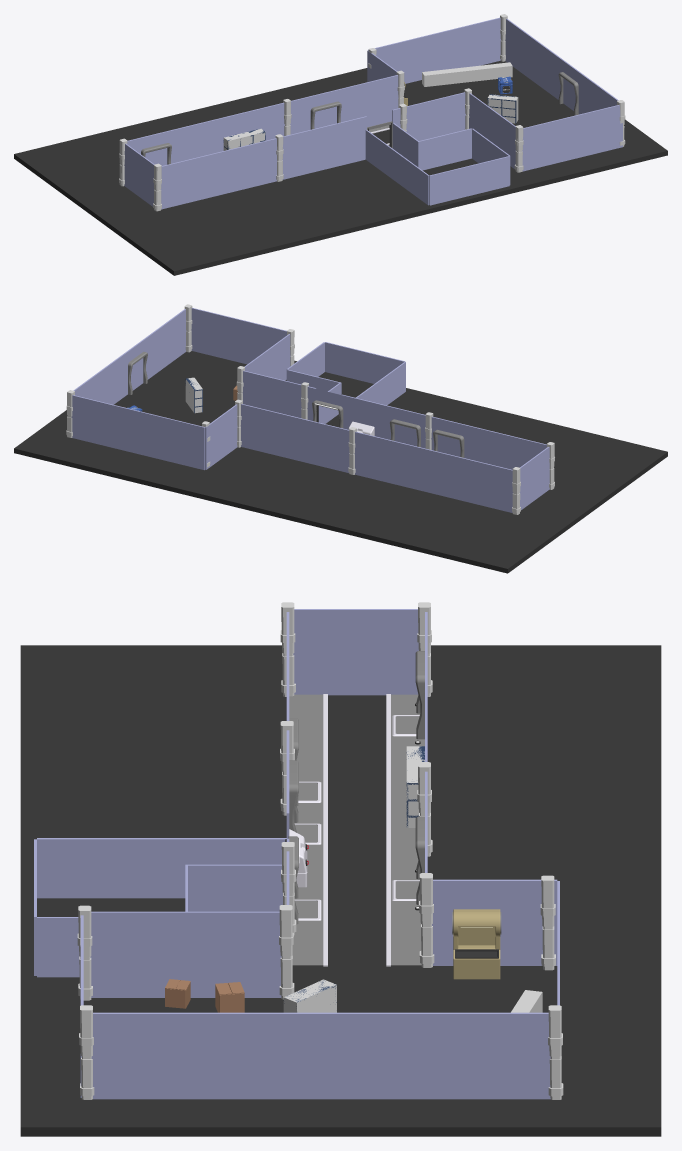
File: SciFiLevel.gltf
3 renders of one model, top to bottom at view 1: azimuth 30°, elevation 25°; view 2: azimuth 150°, elevation 25°; view 3: azimuth 270°, elevation 25°, orthographic. The views are drawn at different scales.
Parts seen in each view (by area): view 1: Floor, Walls, Walls.011, Walls.003, Walls.002, Walls.015, Walls.013, Walls.010, Walls.005, Walls.007, Walls.004, Walls.008 (+8 smaller); view 2: Floor, Walls, Walls.013, Walls.015, Walls.002, Walls.003, Walls.014, Walls.012, Walls.005, Walls.004, Walls.007, Walls.009 (+4 smaller); view 3: Floor, Walls.002, Walls, Cube.005, Walls.012, Walls.006, Cube, Cube.002, Walls.009, Walls.004, Cube.003, WallPost.007 (+14 smaller).
Part boxes in pixels (x1,y1,x2,y2): Floor: (14,60,667,275); Walls: (127,18,500,170); Walls.011: (161,116,366,209); Walls.003: (522,105,622,171); Walls.002: (505,18,618,114); Walls.015: (368,17,500,83); Walls.013: (127,75,397,165); Walls.010: (429,156,509,205); Walls.005: (392,92,465,140); Walls.007: (365,130,429,205); Walls.004: (469,93,515,168); Walls.008: (417,128,471,168); Floor: (14,351,667,573); Walls: (191,309,546,469); Walls.013: (240,404,513,512); Walls.015: (71,395,204,470); Walls.002: (73,309,186,404); Walls.003: (191,308,286,363); Walls.014: (205,404,237,469); Walls.012: (519,447,549,509); Walls.005: (242,370,316,417); Walls.004: (244,334,290,380); Walls.007: (356,362,405,405); Walls.009: (286,342,324,380); Floor: (20,645,661,1136); Walls.002: (91,1012,550,1099); Walls: (37,610,557,997); Cube.005: (289,694,424,965); Walls.012: (293,609,418,695); Walls.006: (185,864,282,911); Cube: (453,909,500,979); Cube.002: (323,694,390,966); Walls.009: (37,917,79,977); Walls.004: (91,911,279,997); Cube.003: (283,979,336,1012); WallPost.007: (540,875,555,970).
Bounding box in the file's own units: 52.54 × 5.02 × 29.52.
16 materials, 1 textured.
